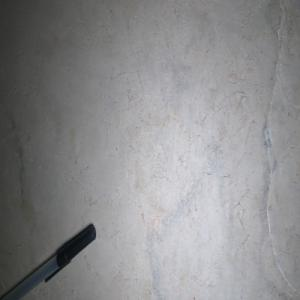Pen: (0, 225, 96, 300)
